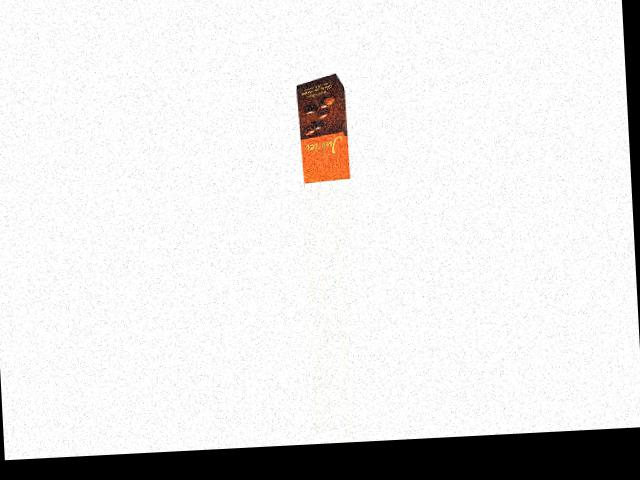chocolate: (289, 74, 352, 183)
